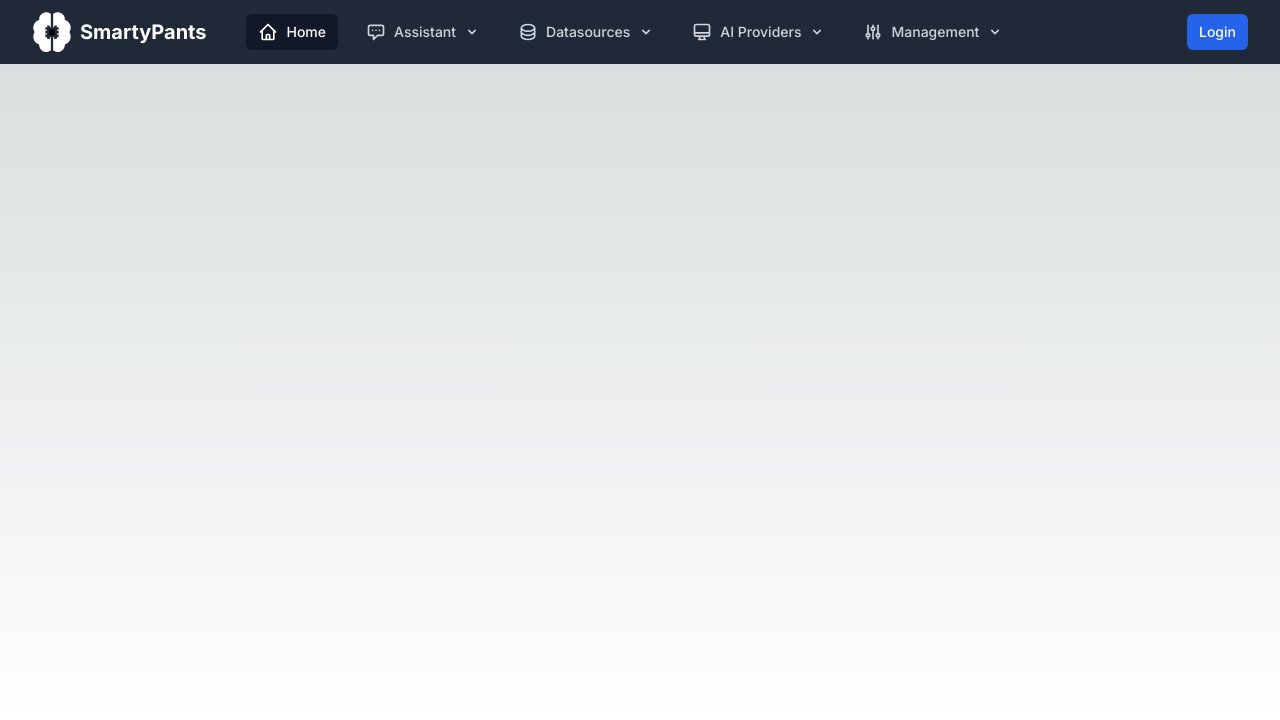
Test: Navbar › opens dropdown menu when clicked
Click the button "Assistant": (422, 32) [354,14,490,50]
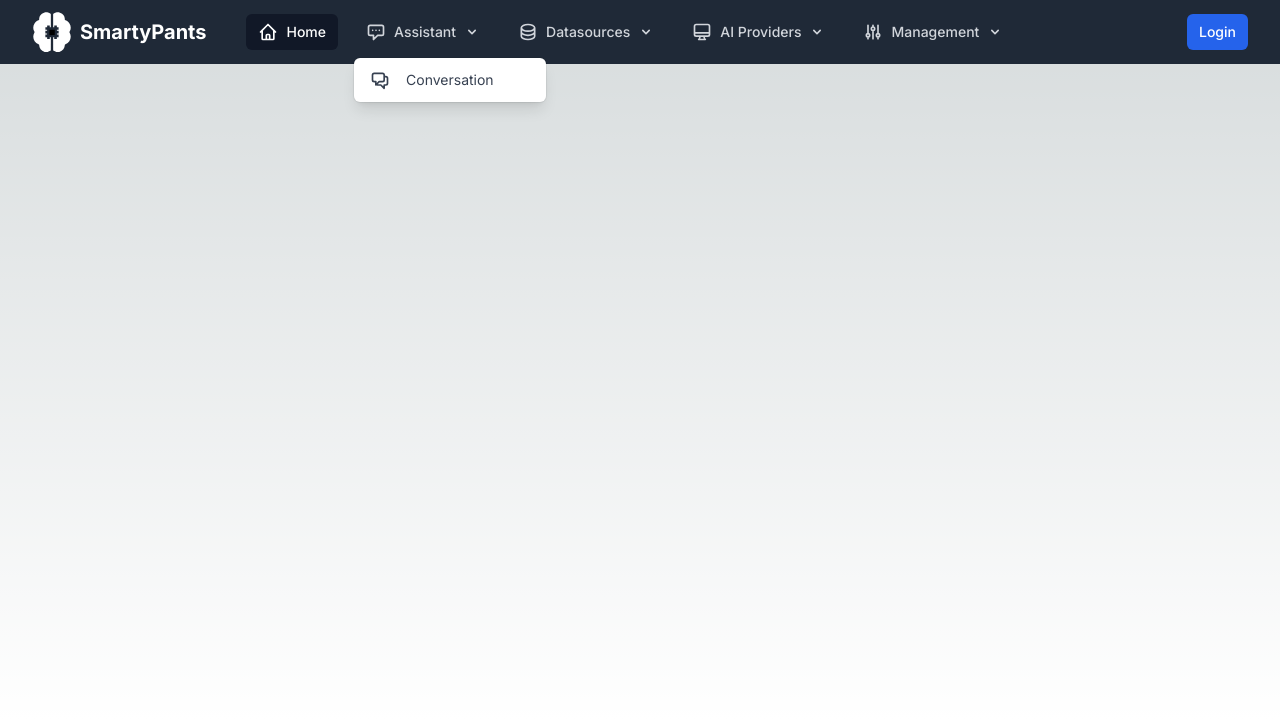
Expected: the text "Conversation" is shown, [406,70,494,90]
